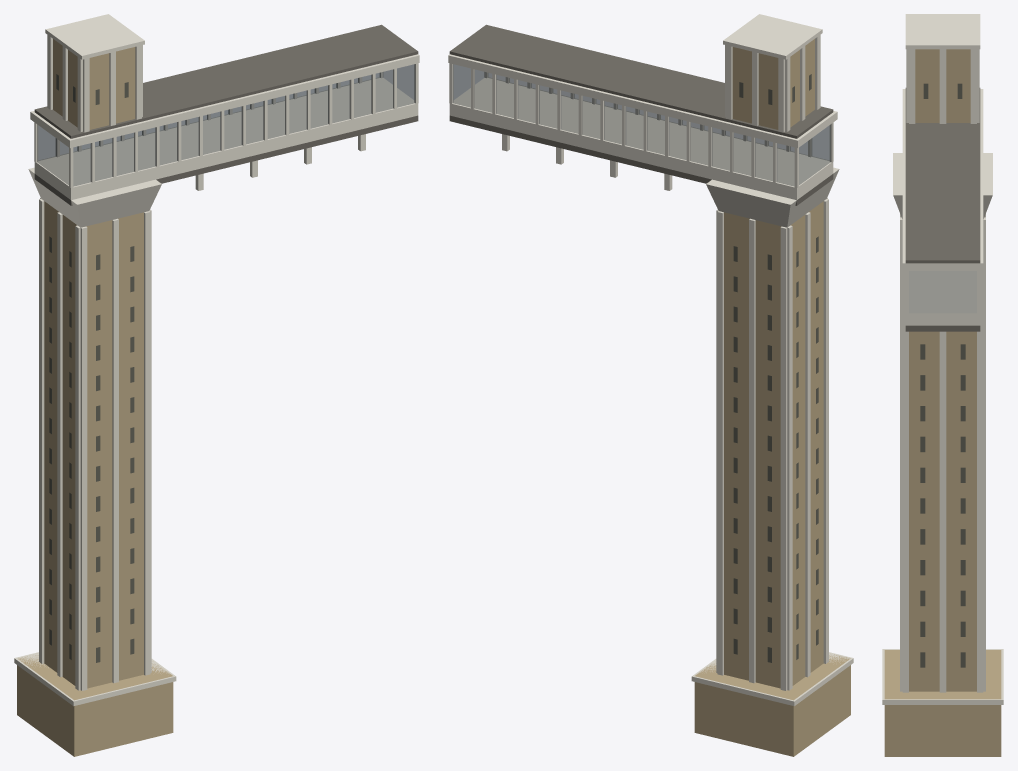
Rendered from elevador-lacerda.glb.
3 views of the same model, side by side, from view 1: azimuth 30°, elevation 25°; view 2: azimuth 150°, elevation 25°; view 3: azimuth 270°, elevation 25° (orthographic).
Parts seen in each view (by area): view 1: elevador_lacerda; view 2: elevador_lacerda; view 3: elevador_lacerda.
Part boxes in pixels (x1,y1,x2,y2): elevador_lacerda: [14, 14, 419, 756]; elevador_lacerda: [448, 14, 853, 756]; elevador_lacerda: [882, 14, 1003, 756].
Size of the model in its own units: 39.55 by 73 by 11.4.
